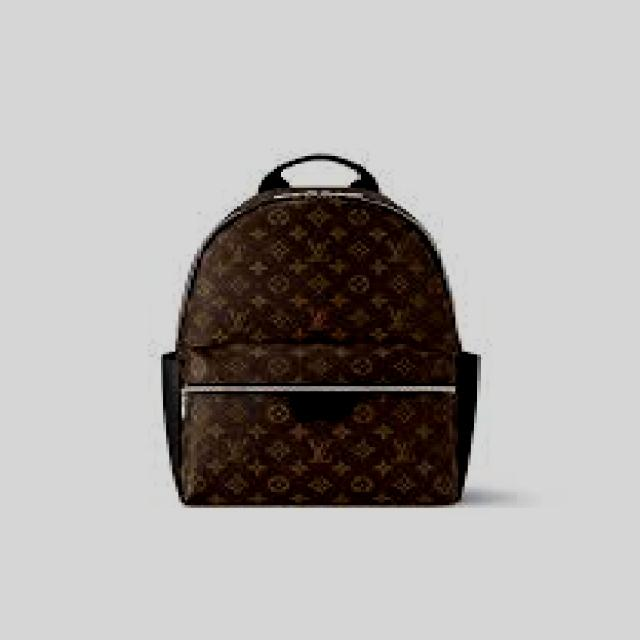backpack: (158, 152, 478, 506)
